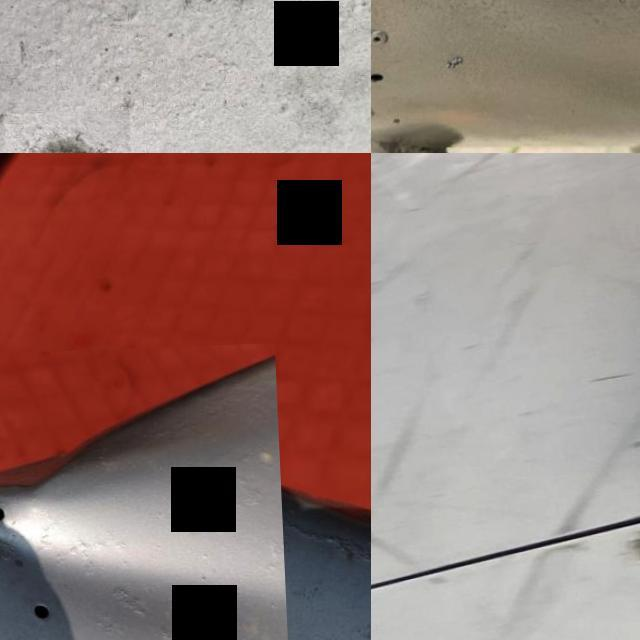Crack: (204, 458, 270, 530)
Dent: (0, 346, 283, 640)
Missing_Fastener: (1, 112, 130, 153), (612, 520, 640, 582)
